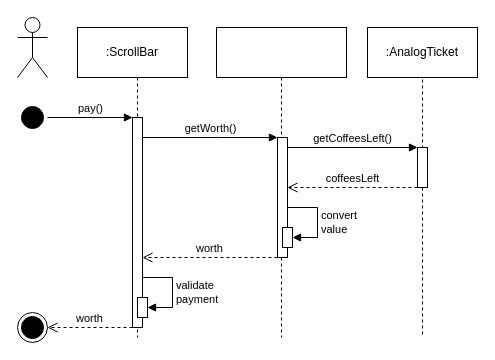
Some shapes in this 495 by 360 pixel diagram are drawn without their labels. The centre of each missing label's shape, as x and y in pixels:
":AnalogTicketAdapter" goes at point 281,52.
"Actor" goes at point 32,47.
